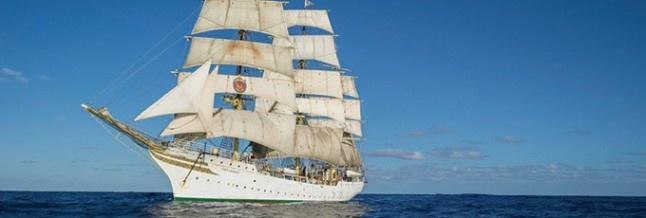fanchuan: (87, 1, 373, 199)
